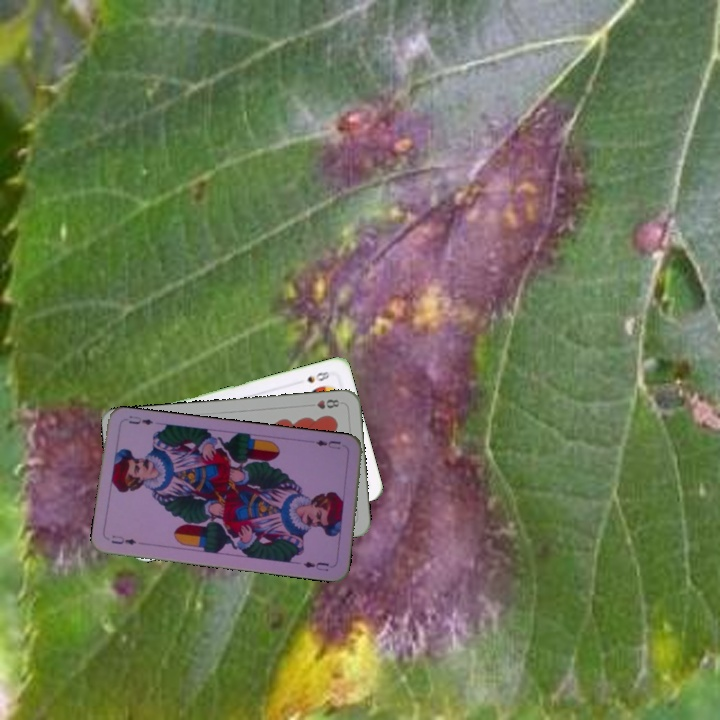EU: (107, 531, 139, 548), (312, 436, 343, 452)
H8: (304, 395, 341, 411)
S8: (303, 367, 332, 385)
